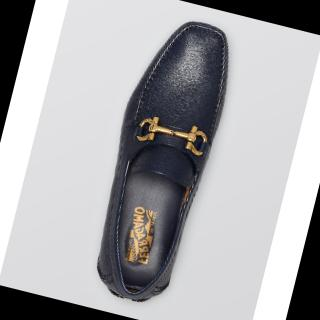loafers: (75, 8, 246, 316)
